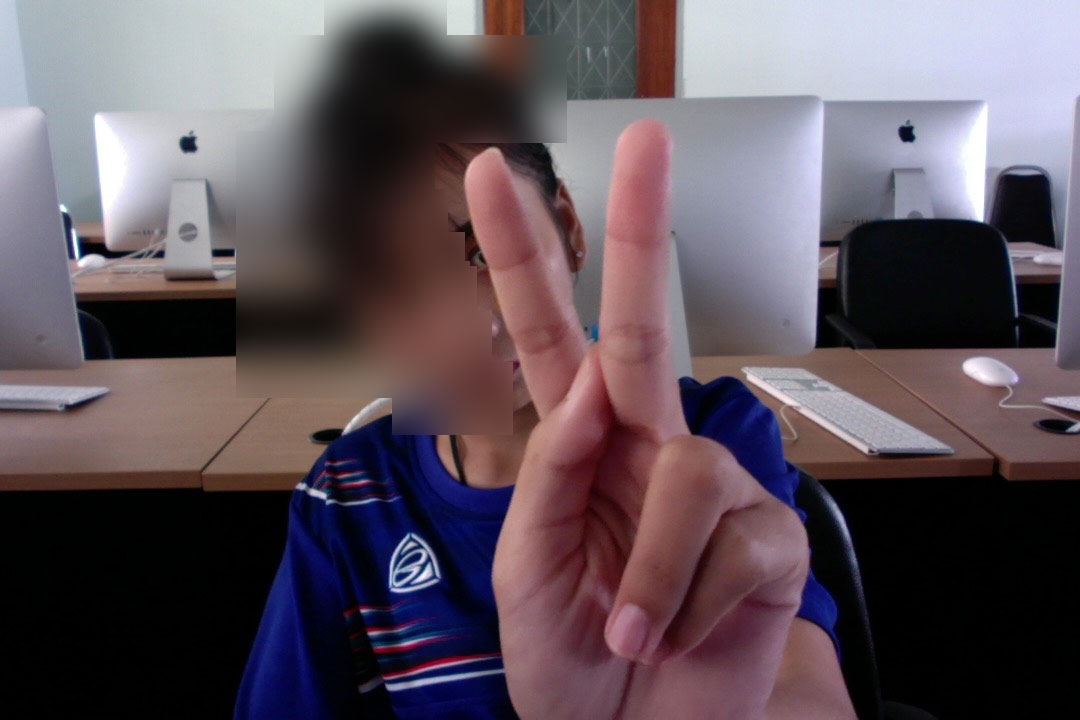ko: (410, 100, 813, 718)
